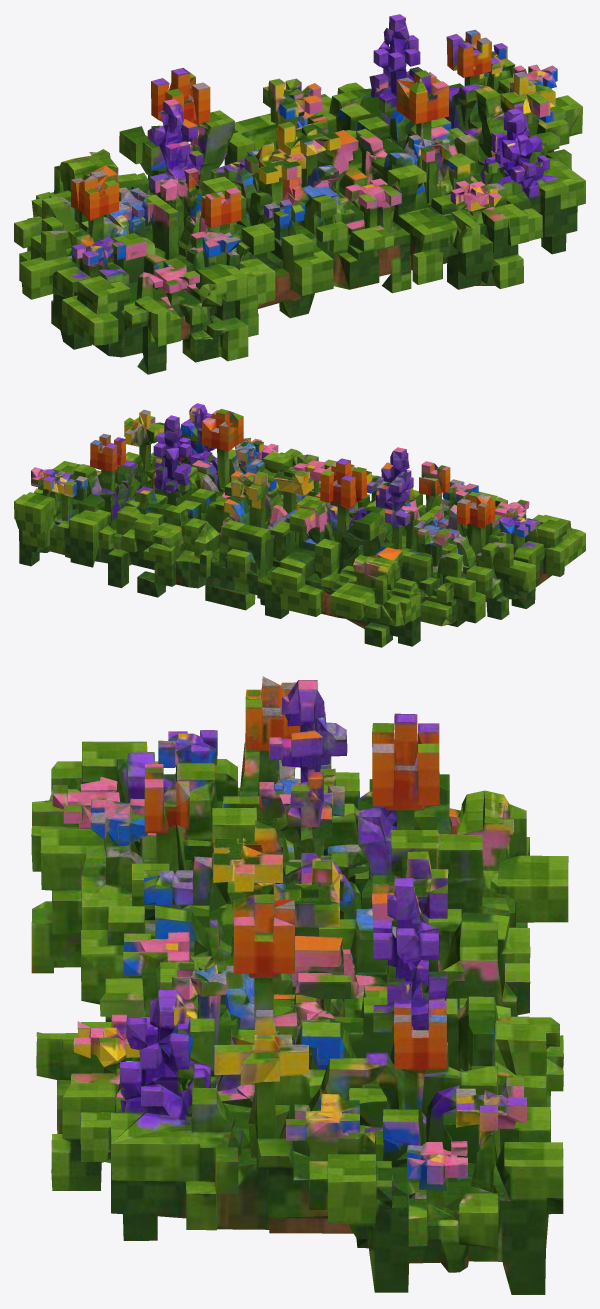
Rendered from voxel-bloom-garden.glb.
3 renders of one model, top to bottom at view 1: azimuth 30°, elevation 25°; view 2: azimuth 150°, elevation 25°; view 3: azimuth 270°, elevation 25°, orthographic. The views are drawn at different scales.
Parts seen in each view (by area): view 1: output_unwrapped; view 2: output_unwrapped; view 3: output_unwrapped.
Boxes of the visible parts, x1,y1,x2,y2 form: output_unwrapped: [14, 14, 585, 374]; output_unwrapped: [14, 403, 585, 647]; output_unwrapped: [31, 676, 568, 1294].
Bounding box in the file's own units: 1.9 × 0.5851 × 0.9561.
Materials: 1 (1 with a texture image).
